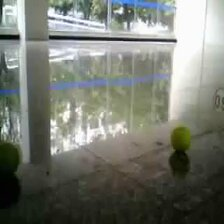tennis: (1, 141, 21, 176), (171, 126, 191, 150)
